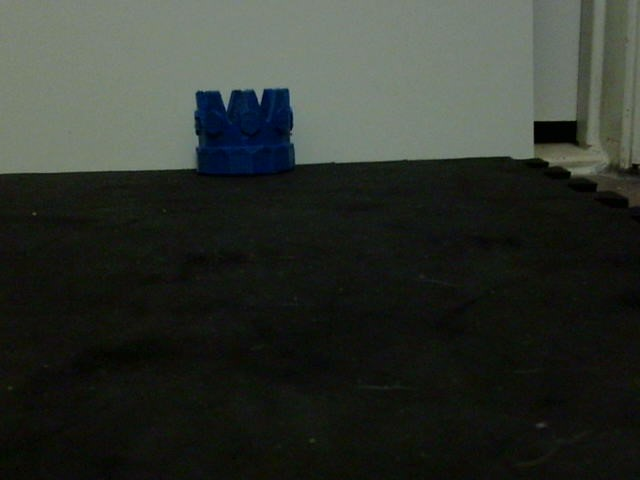crown: (192, 88, 297, 176)
